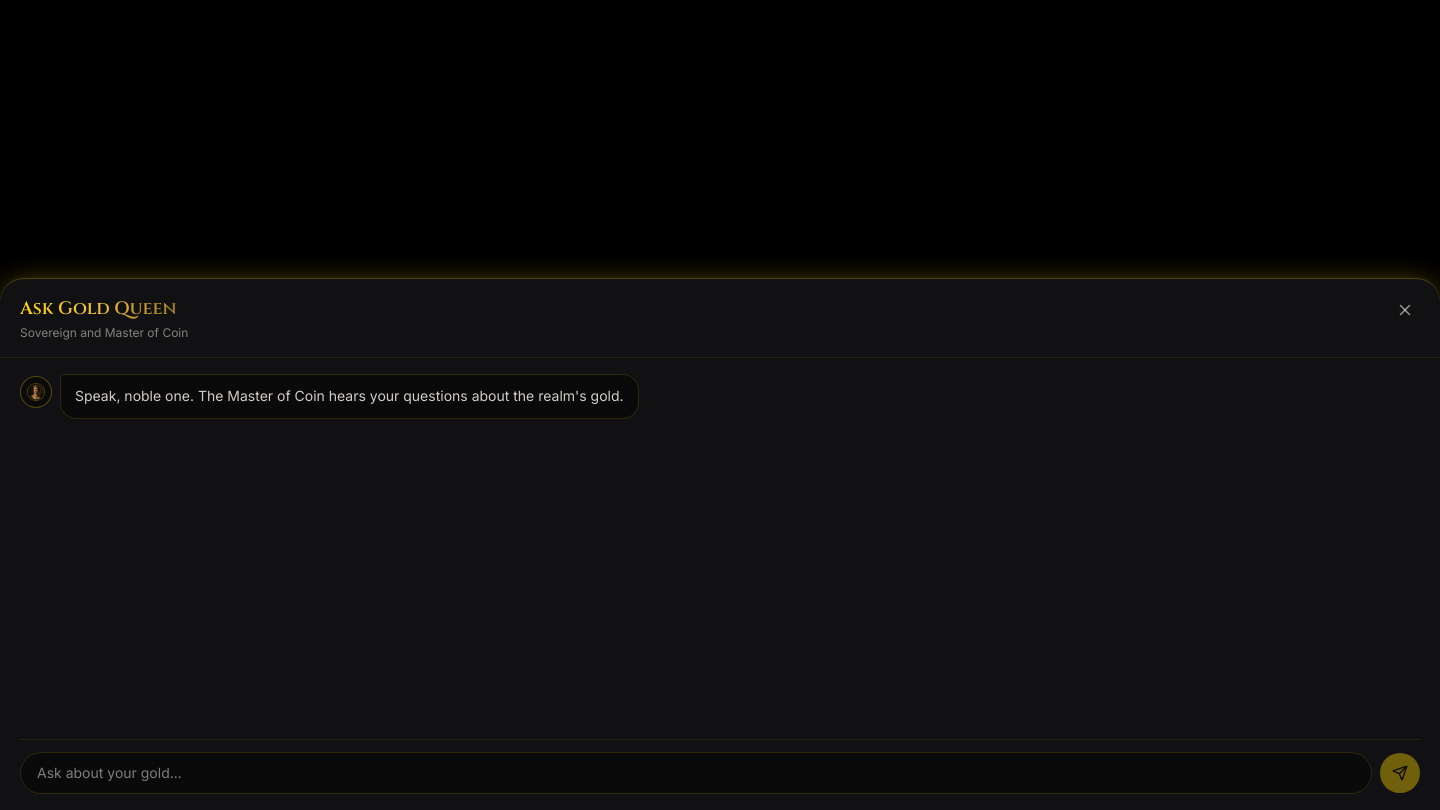
ChatModal › retires the composer after the daily limit
In the field with placeholder "Ask about your gold...": (696, 773) [20,752,1372,794], type "One more coin?"
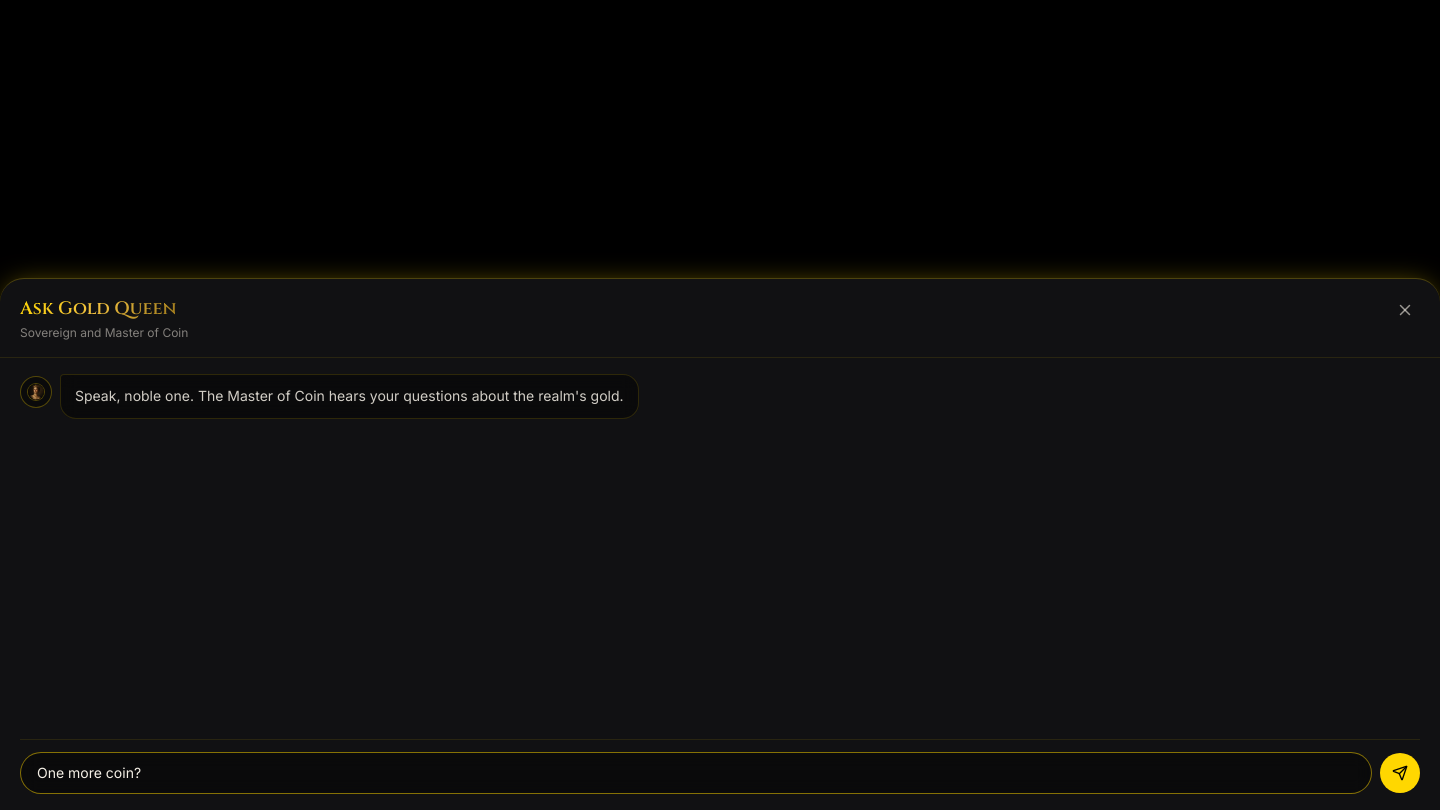
Click the button named "Send question": (1400, 773) [1380,753,1420,793]
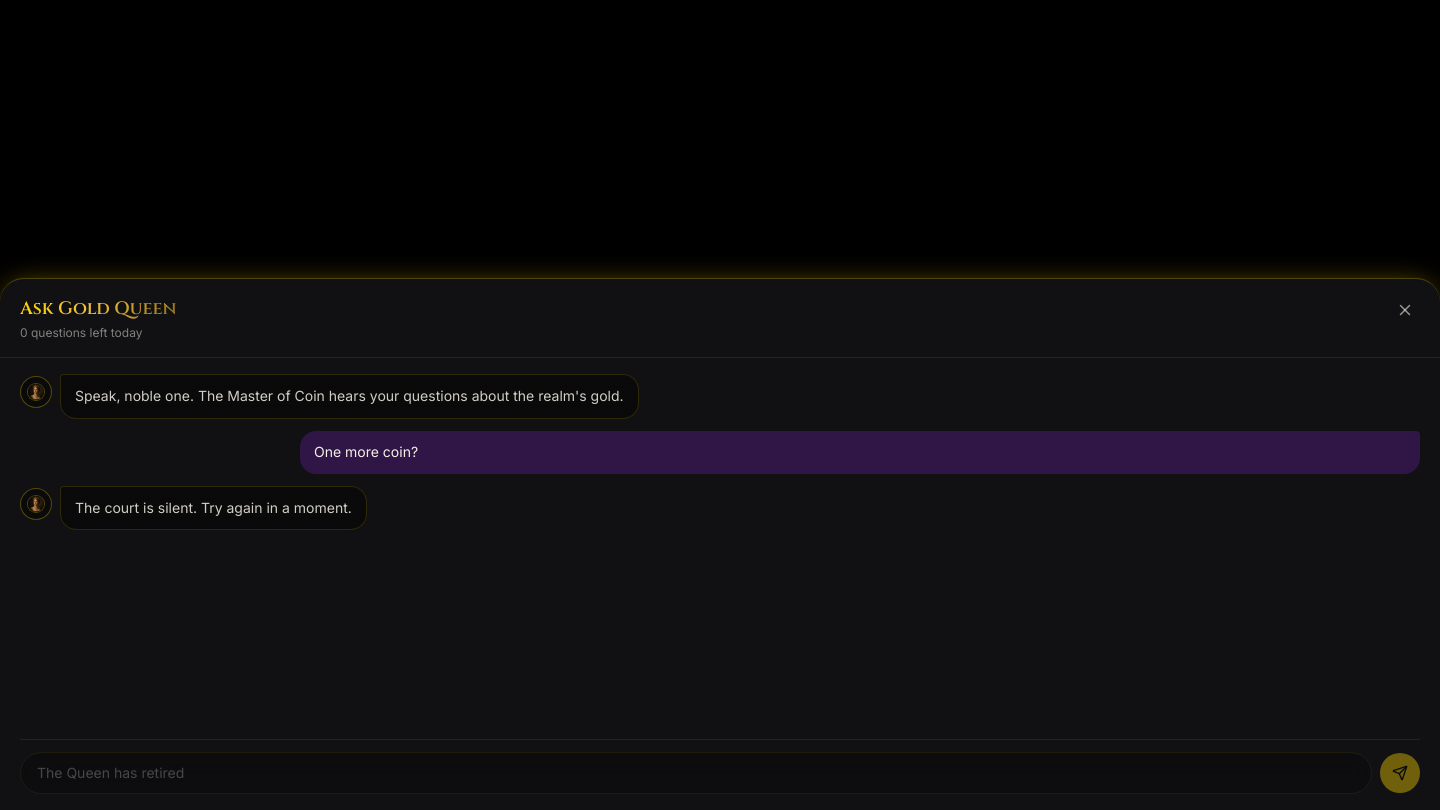
Expected: the text "The court is silent. Try again in a moment." is shown, [60,486,367,530]
Expected: the text "0 questions left today" is shown, [20,325,142,340]
Expected: the field with placeholder "The Queen has retired" is disabled, [20,752,1372,794]
